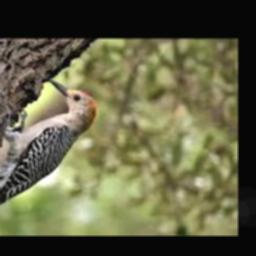Woodpecker: (0, 79, 97, 211)
